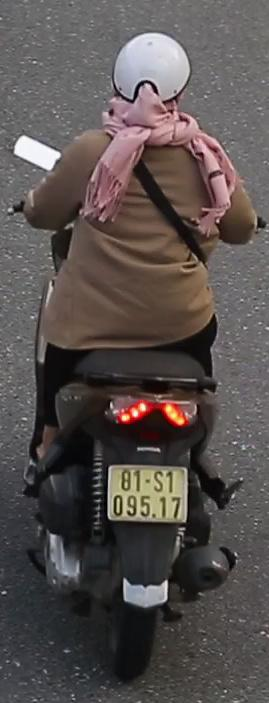LP: (105, 462, 191, 525)
helmet: (97, 26, 202, 139)
